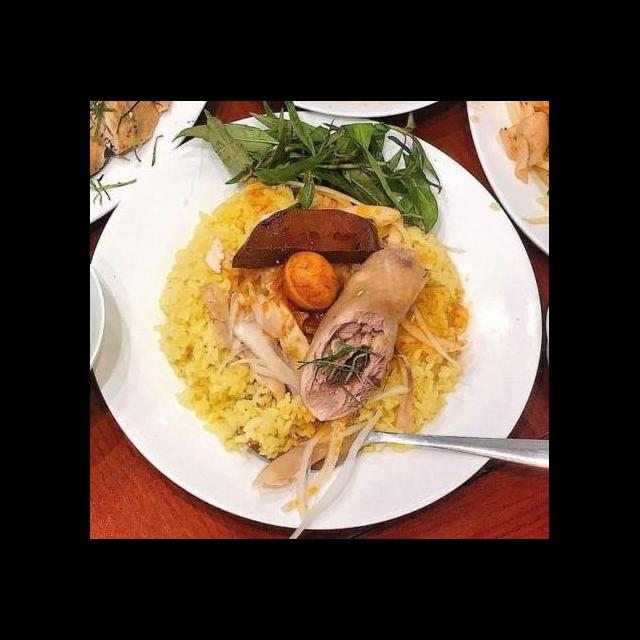ca: (150, 268, 320, 461), (354, 222, 472, 458)
com: (165, 174, 298, 273)
com ga: (131, 145, 493, 536)
rau ram: (170, 102, 447, 237)
thit ga: (296, 241, 432, 423), (198, 279, 320, 404), (250, 407, 374, 492)
